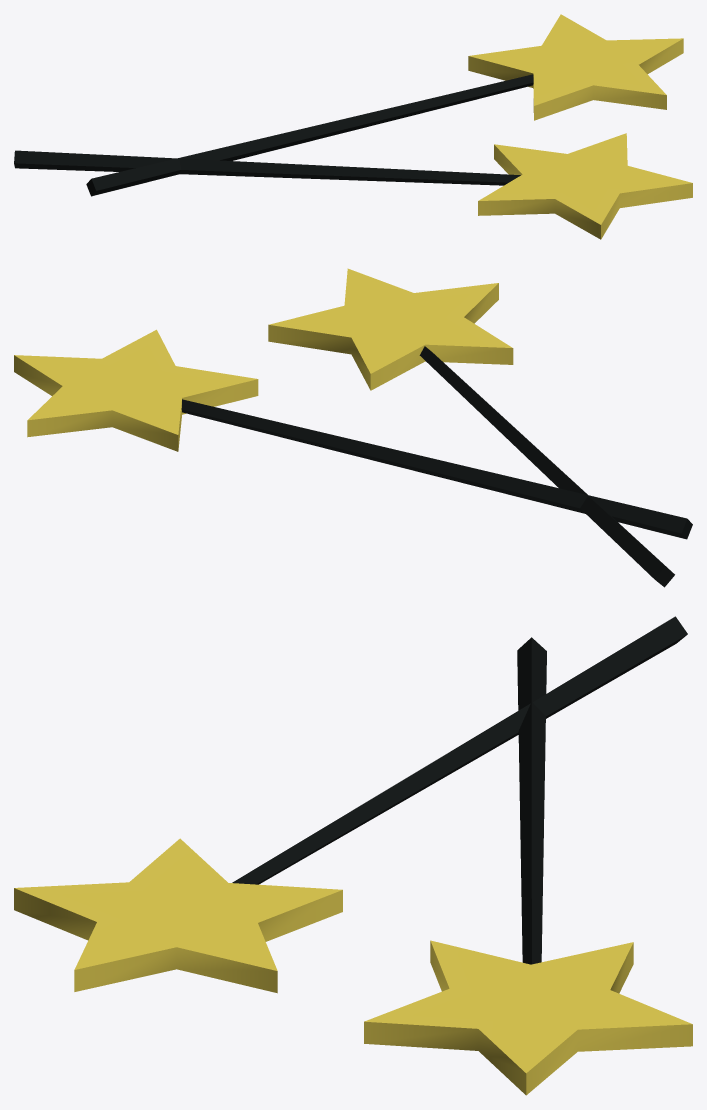
Rendered from Varitas.obj.
3 renders of one model, top to bottom at view 1: azimuth 30°, elevation 25°; view 2: azimuth 150°, elevation 25°; view 3: azimuth 270°, elevation 25°, orthographic. The views are drawn at different scales.
Parts seen in each view (by area): view 1: Varitas:polySurface2306; view 2: Varitas:polySurface2306; view 3: Varitas:polySurface2306.
Part boxes in pixels (box(x1,y1,x2,y2)): Varitas:polySurface2306: box(14, 14, 692, 239); Varitas:polySurface2306: box(14, 268, 692, 587); Varitas:polySurface2306: box(14, 616, 692, 1095).
Bounding box in the file's own units: 0.4116 × 0.0114 × 0.2585.
2 materials, 2 textured.
